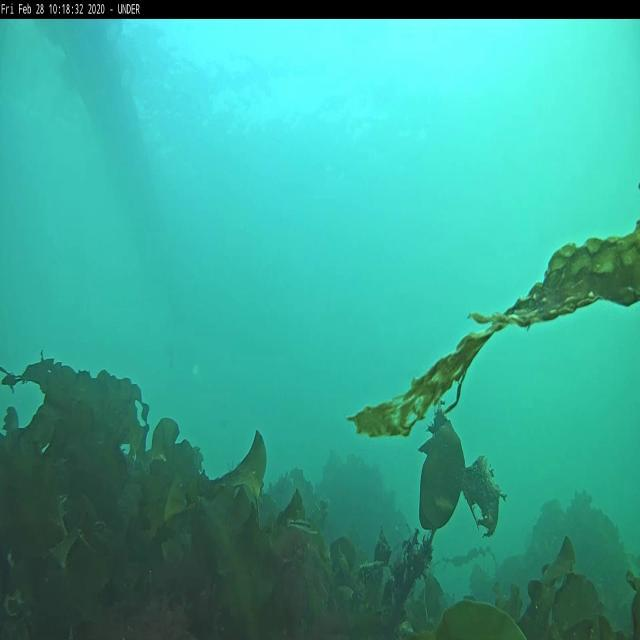fish: (288, 518, 314, 534)
